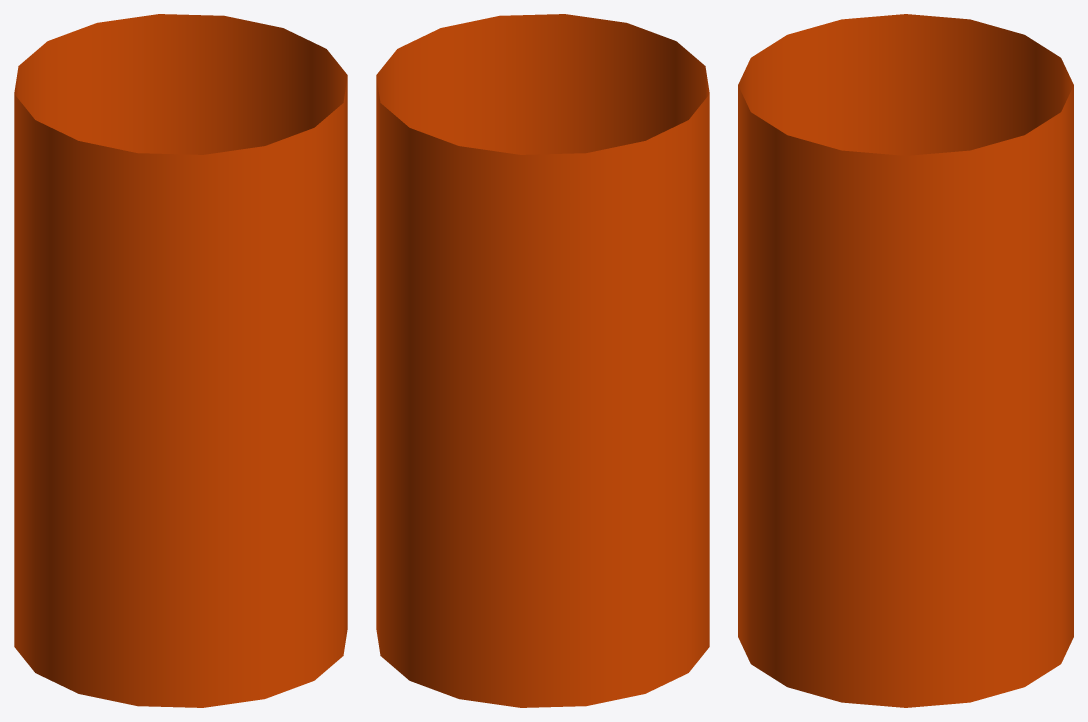
File: Pipe_Straight.fbx
3 renders of one model, left to right at view 1: azimuth 30°, elevation 25°; view 2: azimuth 150°, elevation 25°; view 3: azimuth 270°, elevation 25°, orthographic.
Visible parts, largest first — view 1: Pipe_Straight; view 2: Pipe_Straight; view 3: Pipe_Straight.
Part boxes in pixels (x1,y1,x2,y2): Pipe_Straight: (14, 14, 347, 707); Pipe_Straight: (376, 14, 709, 707); Pipe_Straight: (738, 14, 1073, 707).
Size of the model in its own units: 220 by 399 by 220.
